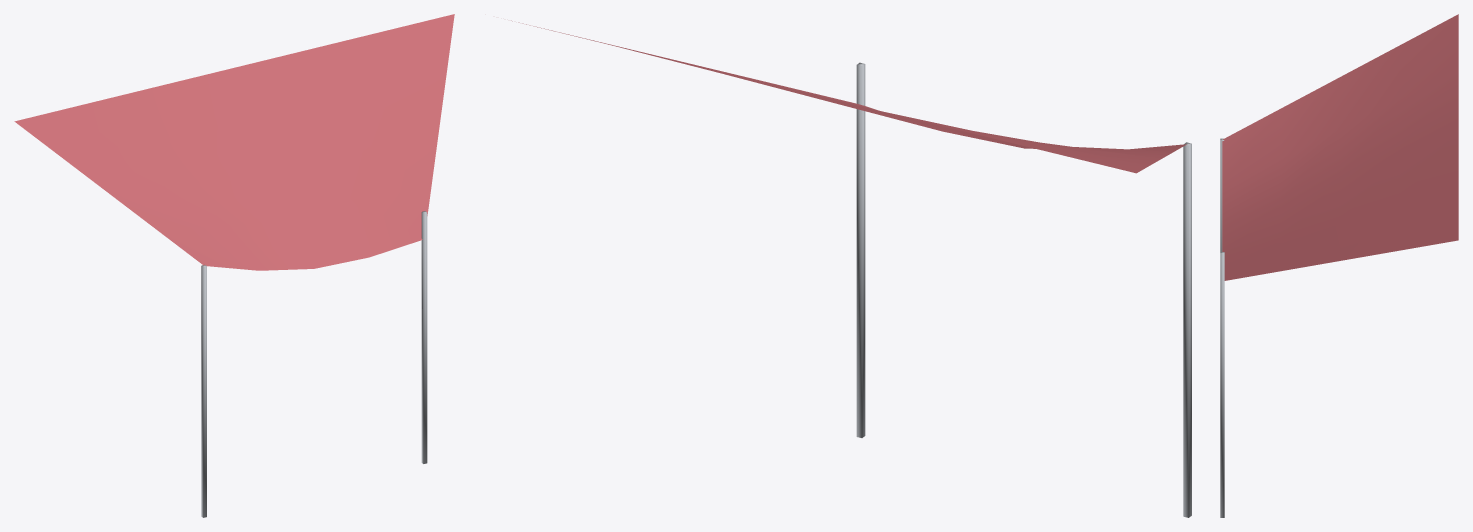
Rendered from city_shade_fabric.glb.
The picture shows the model from 3 angles, left to right: view 1: azimuth 30°, elevation 25°; view 2: azimuth 150°, elevation 25°; view 3: azimuth 270°, elevation 25°; orthographic projection. The views are drawn at different scales.
Visible parts, largest first — view 1: CityShadeFabric_Cloth, CityShadeFabric_Arm2.6, CityShadeFabric_Arm0.9; view 2: CityShadeFabric_Cloth, CityShadeFabric_Arm2.6, CityShadeFabric_Arm0.9; view 3: CityShadeFabric_Cloth, CityShadeFabric_Arm2.6, CityShadeFabric_Arm0.9.
Boxes of the visible parts, x1,y1,x2,y2 form: CityShadeFabric_Cloth: [14, 14, 454, 270]; CityShadeFabric_Arm2.6: [421, 211, 427, 463]; CityShadeFabric_Arm0.9: [201, 265, 206, 517]; CityShadeFabric_Cloth: [511, 20, 1186, 173]; CityShadeFabric_Arm2.6: [856, 62, 865, 437]; CityShadeFabric_Arm0.9: [1183, 142, 1191, 517]; CityShadeFabric_Cloth: [1222, 14, 1458, 280]; CityShadeFabric_Arm2.6: [1220, 252, 1224, 517]; CityShadeFabric_Arm0.9: [1220, 138, 1224, 251].
Size of the model in its own units: 3.4 by 2.45 by 1.51.
